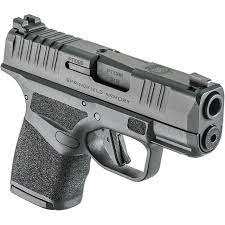gun: (1, 14, 225, 211)
